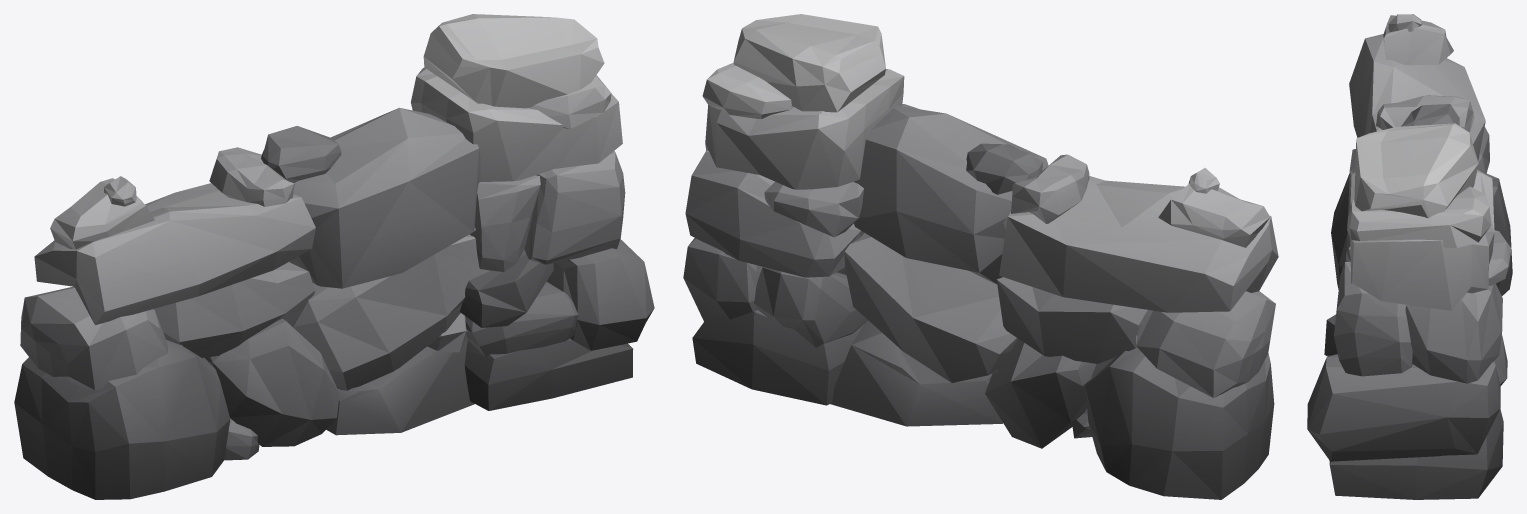
Rendered from RoadFenceStone_Sml-04.FBX.
3 renders of one model, left to right at view 1: azimuth 30°, elevation 25°; view 2: azimuth 150°, elevation 25°; view 3: azimuth 270°, elevation 25°, orthographic. The views are drawn at different scales.
Visible parts, largest first — view 1: RoadFenceStone_Sml-04; view 2: RoadFenceStone_Sml-04; view 3: RoadFenceStone_Sml-04.
Part boxes in pixels (left/top/right/bottom): RoadFenceStone_Sml-04: left=14, top=14, right=654, bottom=499; RoadFenceStone_Sml-04: left=683, top=14, right=1278, bottom=499; RoadFenceStone_Sml-04: left=1307, top=14, right=1512, bottom=499.
Size of the model in its own units: 226 by 134 by 76.57.
1 material, 1 textured.
